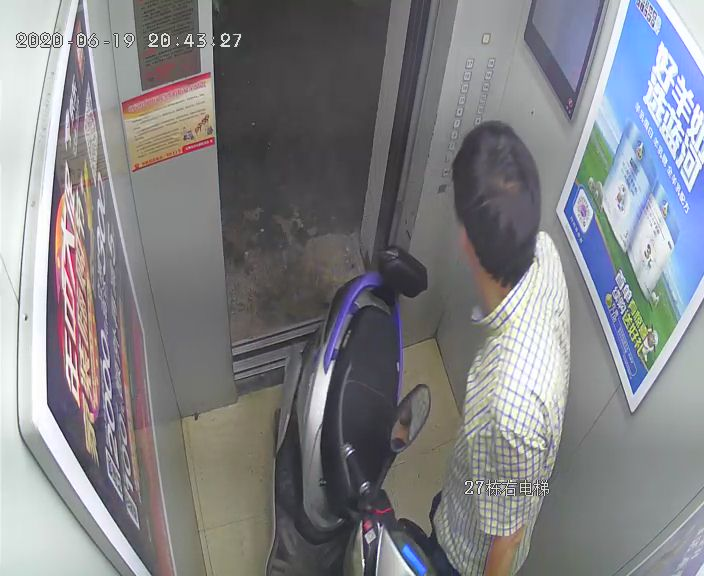Electric-bicycle: (271, 253, 454, 576)
